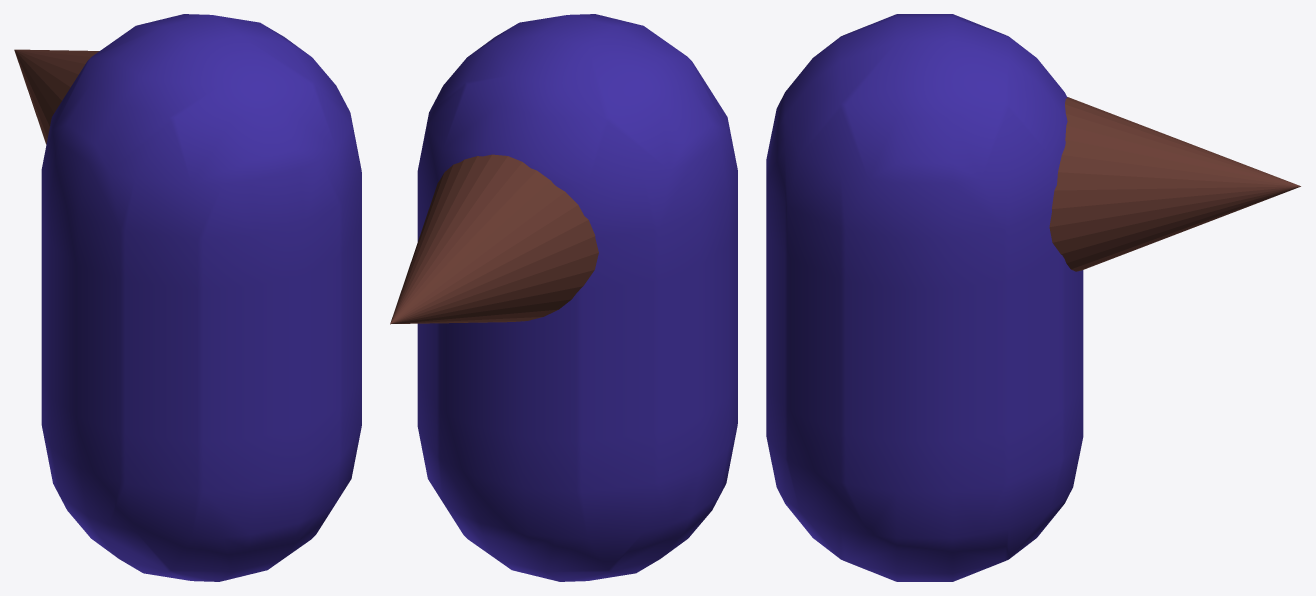
The model's file is Character.glb.
The picture shows the model from 3 angles, left to right: view 1: azimuth 30°, elevation 25°; view 2: azimuth 150°, elevation 25°; view 3: azimuth 270°, elevation 25°; orthographic projection.
Parts seen in each view (by area): view 1: Mball.001, Cone; view 2: Mball.001, Cone; view 3: Mball.001, Cone.
Part boxes in pixels (left/top/right/bottom): Mball.001: left=41, top=14, right=361, bottom=581; Cone: left=14, top=49, right=99, bottom=144; Mball.001: left=417, top=14, right=737, bottom=581; Cone: left=390, top=154, right=598, bottom=324; Mball.001: left=766, top=14, right=1083, bottom=581; Cone: left=1049, top=97, right=1300, bottom=271.
Size of the model in its own units: 2.27 by 4.23 by 3.83.
